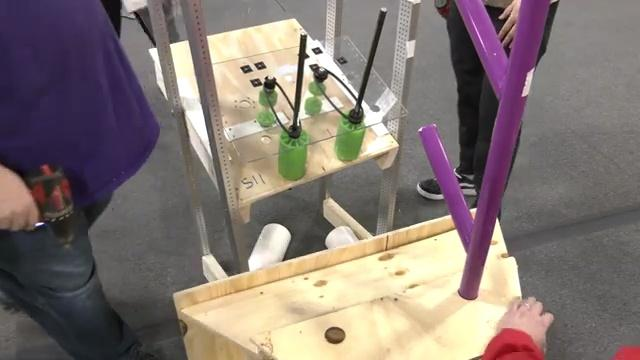CORAL: (246, 221, 291, 271), (325, 226, 357, 250)
